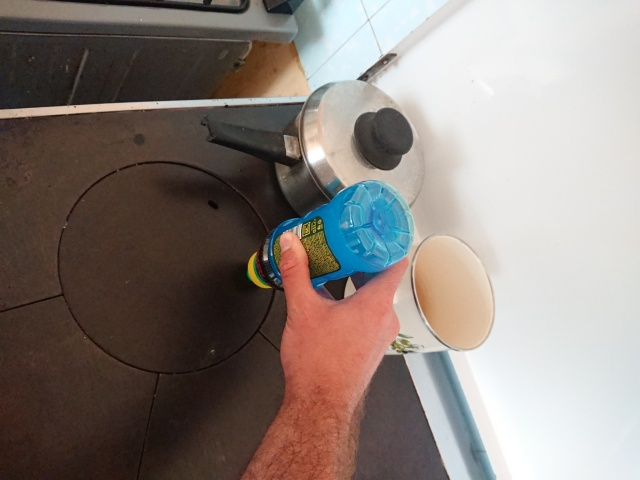Vindi Iso Sport Forest Strawberries 500mL: (243, 177, 416, 293)
